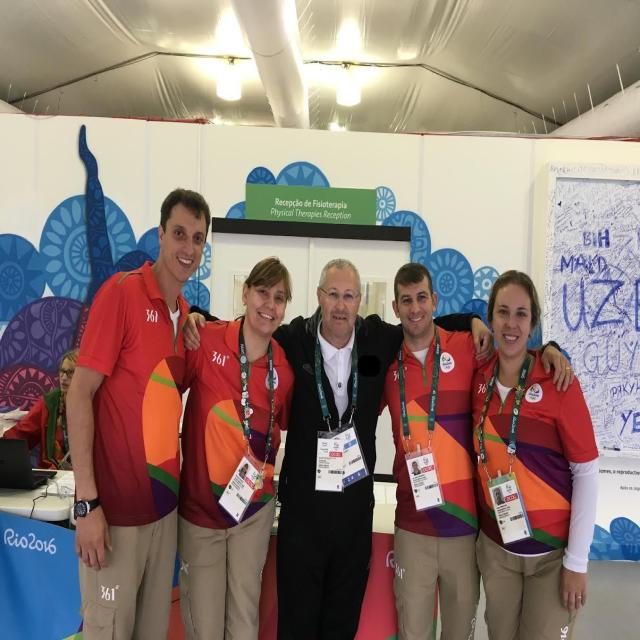body: (178, 253, 496, 640), (375, 260, 576, 640), (62, 184, 215, 640), (470, 268, 601, 640), (176, 256, 295, 640), (2, 346, 82, 471)
